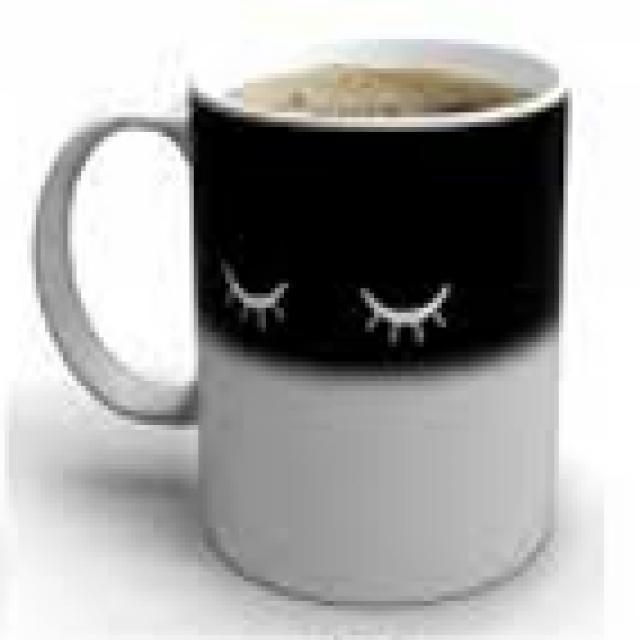taza: (28, 39, 568, 614)
